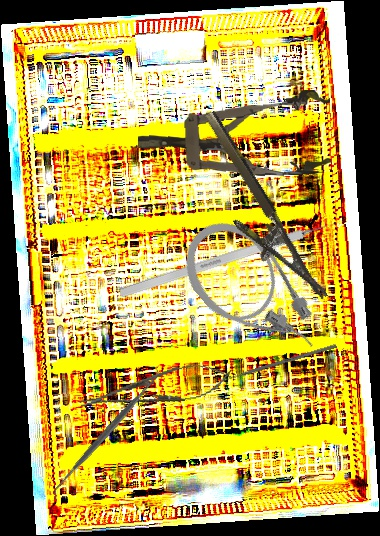Cannula: (167, 205, 335, 382)
Hook Surgical: (118, 214, 349, 299)
Needle Holder: (179, 109, 328, 318), (76, 356, 235, 421)
Pusher: (216, 343, 337, 385)
Spatula Surgical: (43, 365, 169, 503)
Speculum: (135, 88, 335, 184)
